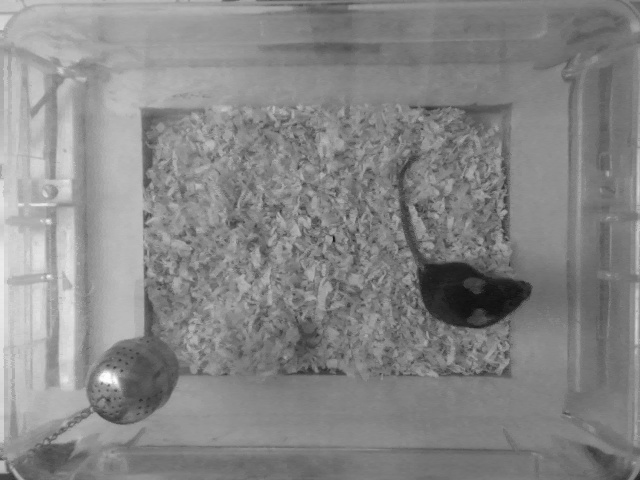mice: (393, 148, 537, 327)
